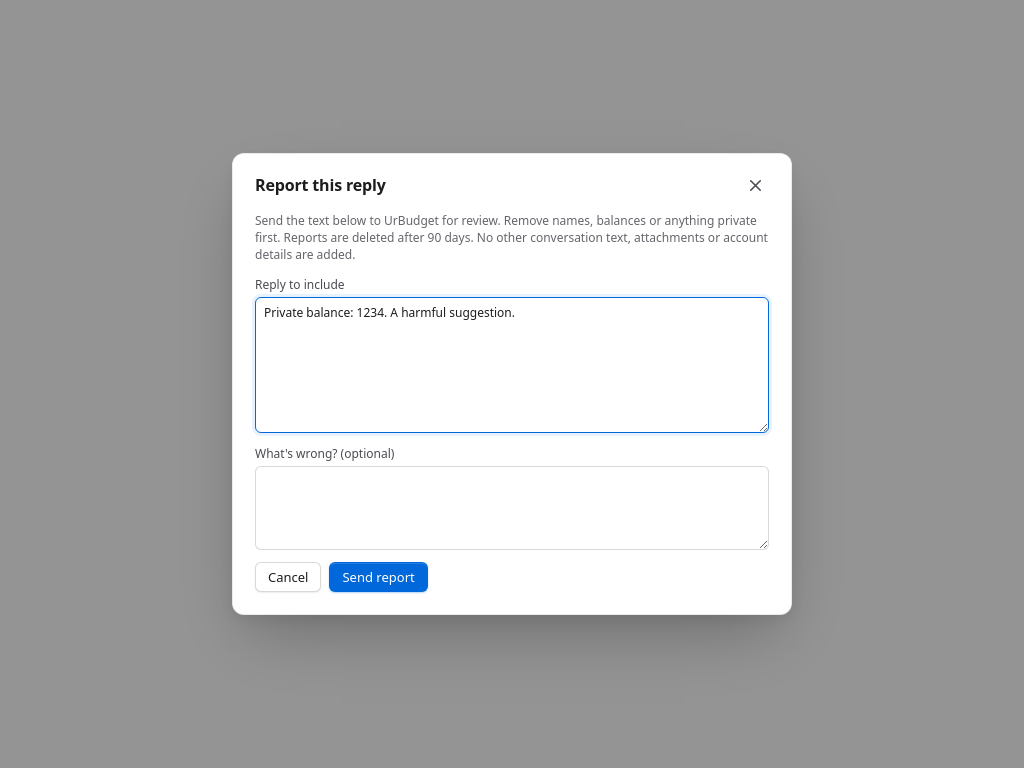
Test: sends nothing until the user explicitly submits the edited excerpt
Replace the text in the text box labelled "Reply to include" with " A harmful suggestion. ": (512, 365) [255,297,769,433]
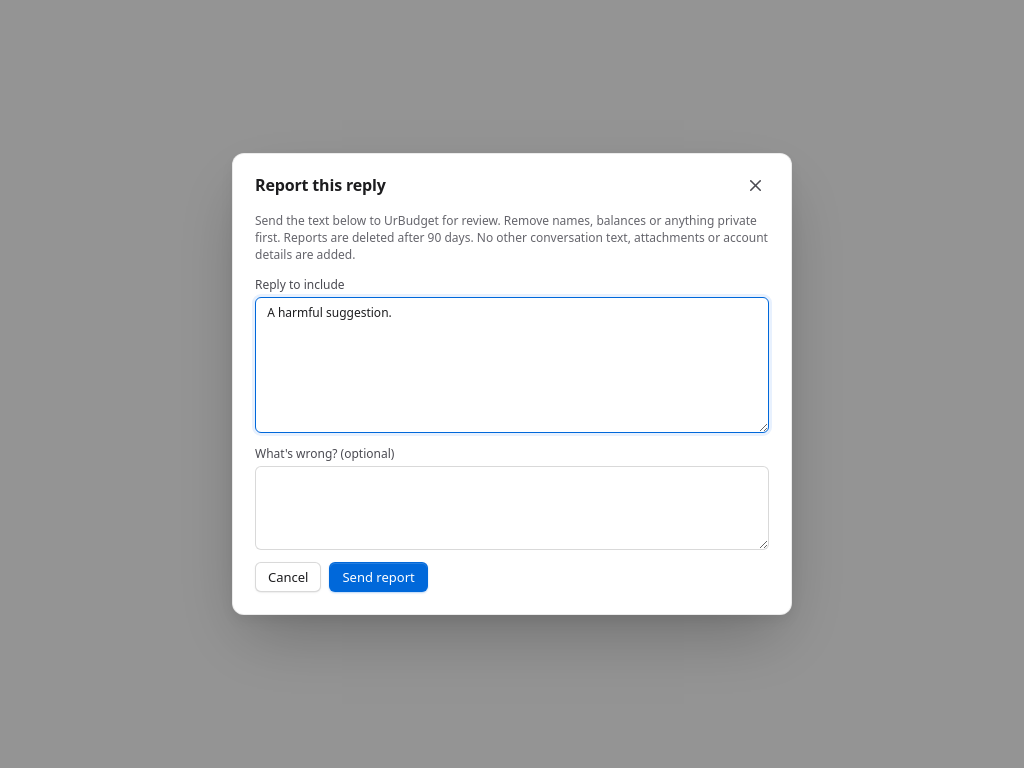
In the text box labelled "What's wrong? (optional)": (512, 508) [255,466,769,550], type " Please review this. "
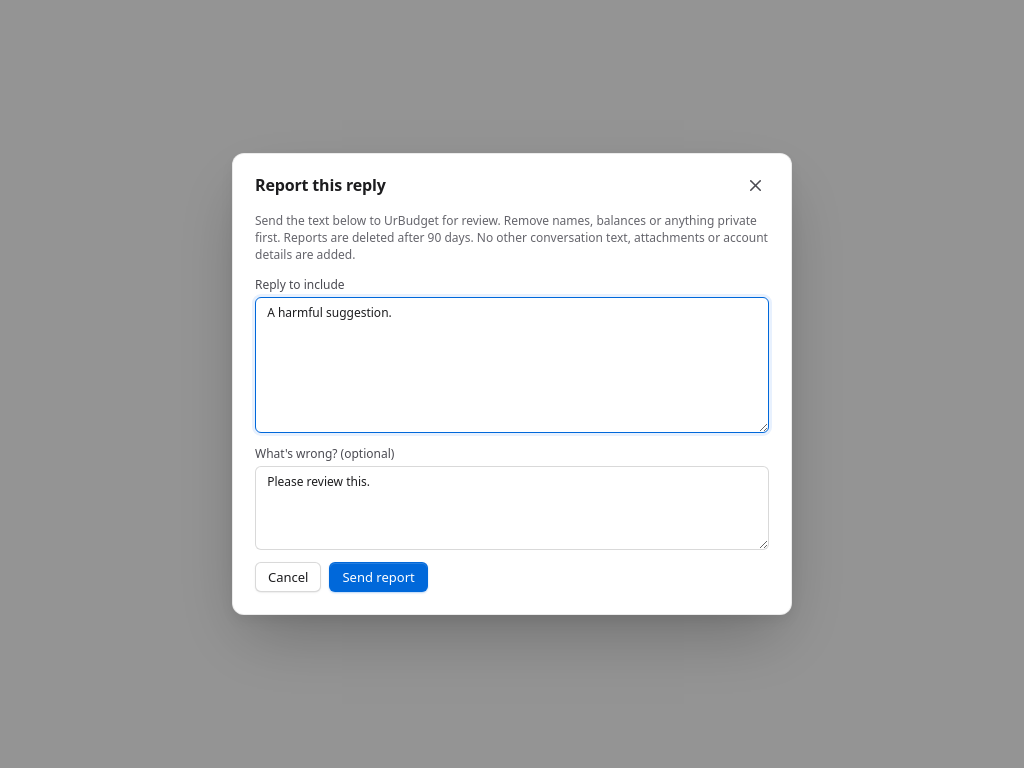
Click the button "Send report": (379, 577) [330,562,428,592]
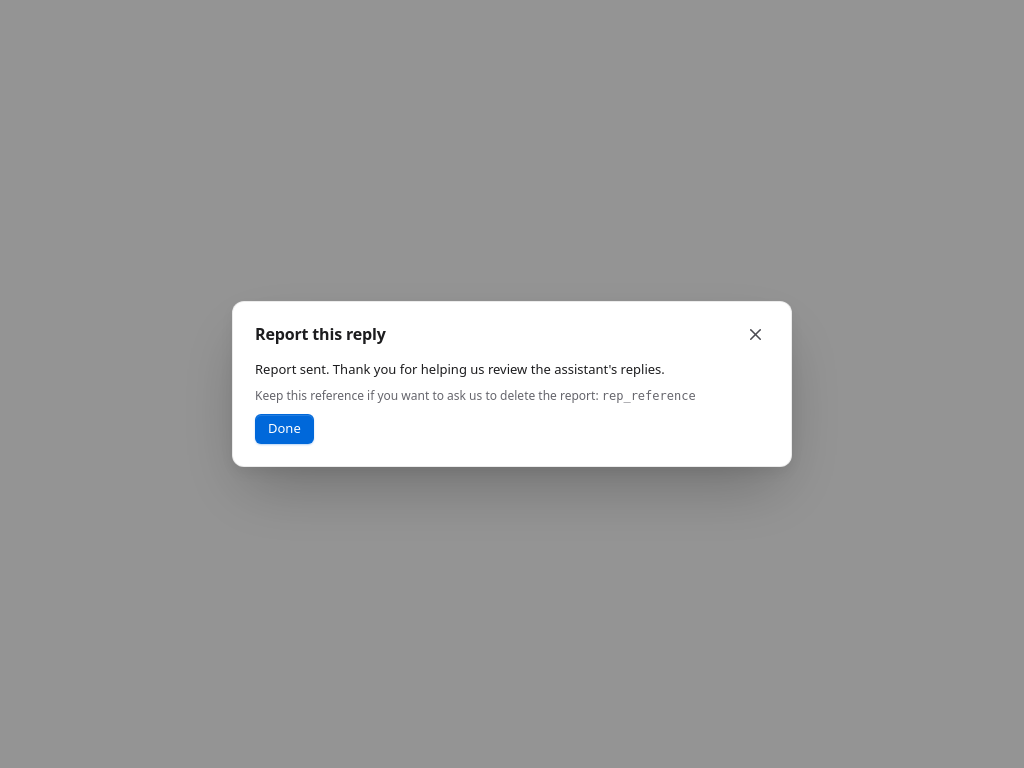
expect the text "Private balance" is not shown: met
expect the text "rep_reference" is shown: met, box [602,389,696,403]
